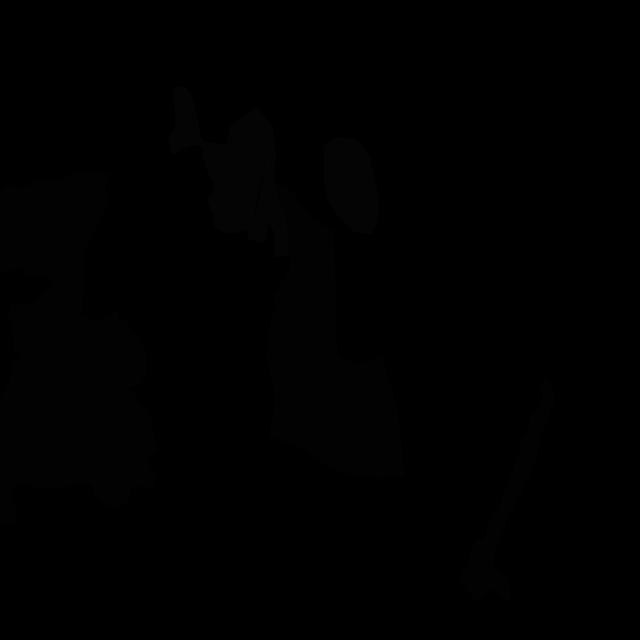cardboard: (0, 311, 159, 526), (458, 379, 554, 602), (0, 170, 109, 353), (268, 356, 405, 479), (266, 184, 338, 378)
soft_plastic: (168, 86, 265, 234), (227, 107, 290, 257), (324, 137, 378, 234)
